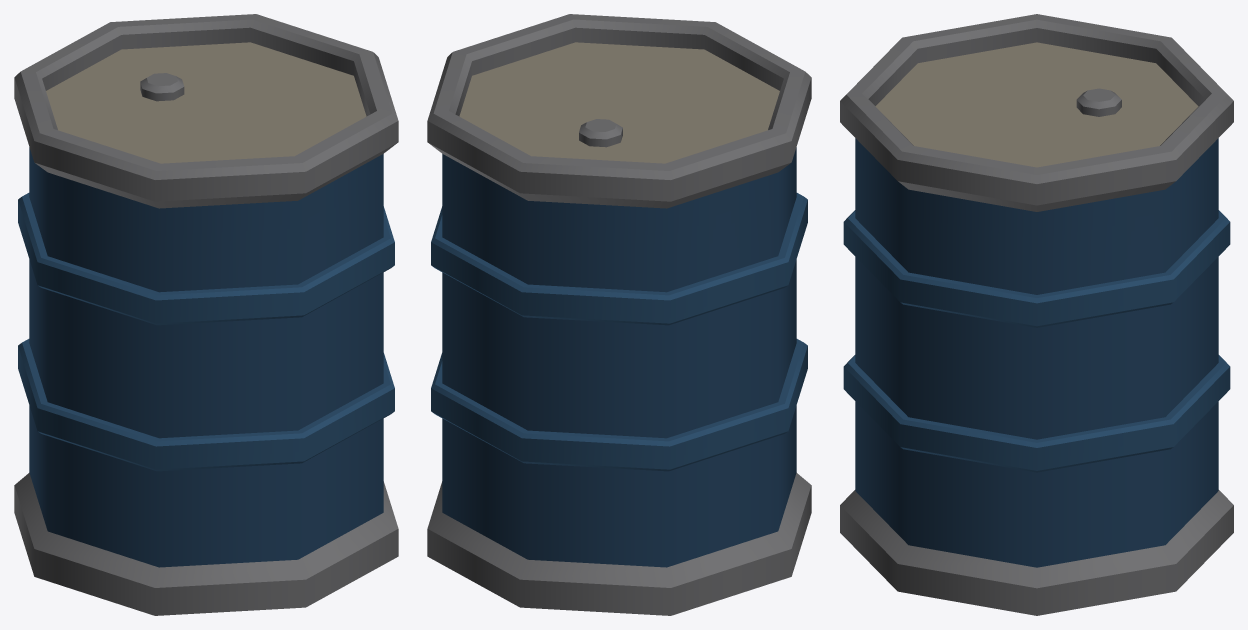
Rendered from Barrel_1_2.fbx.
3 views of the same model, side by side, from view 1: azimuth 30°, elevation 25°; view 2: azimuth 150°, elevation 25°; view 3: azimuth 270°, elevation 25° (orthographic).
Parts seen in each view (by area): view 1: Barrel_1_2; view 2: Barrel_1_2; view 3: Barrel_1_2.
Part boxes in pixels (x1,y1,x2,y2): Barrel_1_2: (14,14,398,615); Barrel_1_2: (427,14,811,615); Barrel_1_2: (840,14,1233,615).
Size of the model in its own units: 67.48 by 83 by 67.48.
